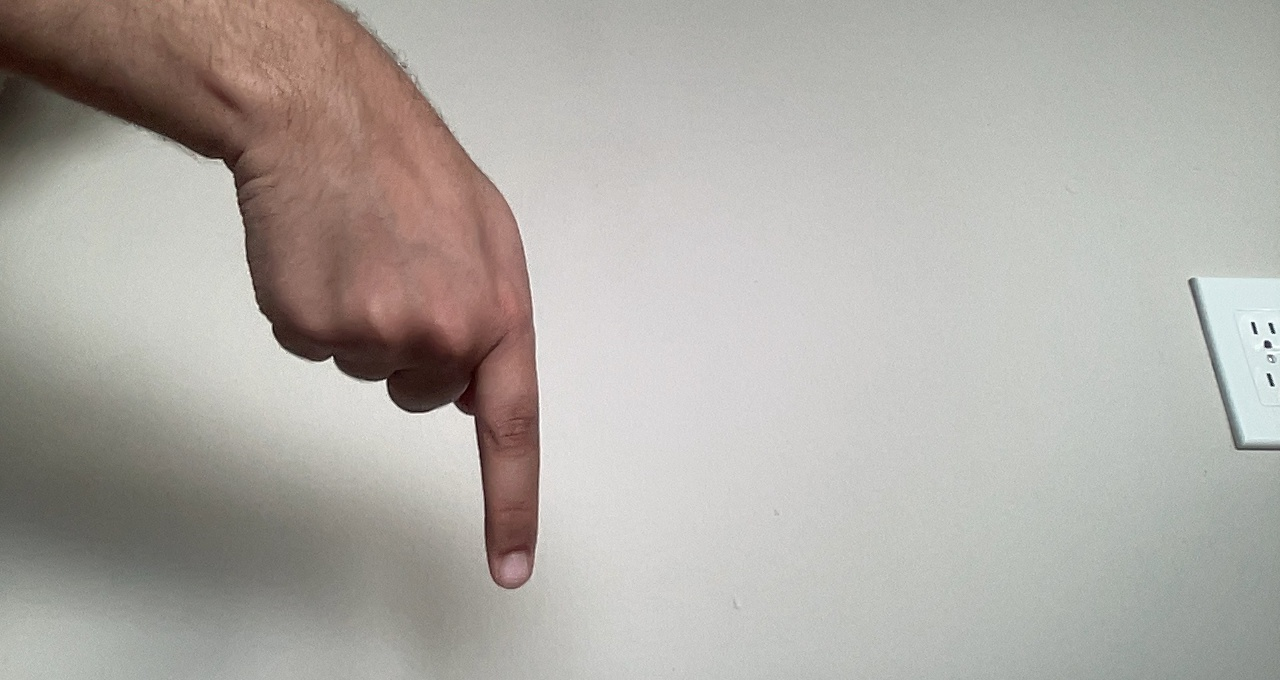fingerdown: (232, 152, 544, 591)
